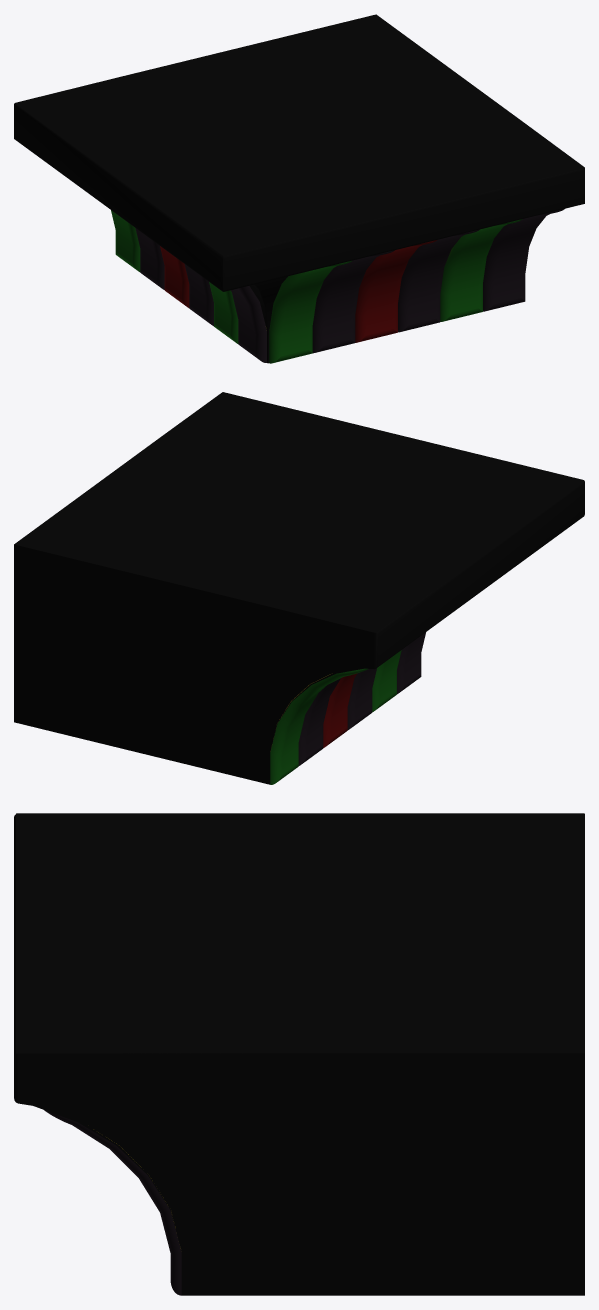
File: CornicheCorner_high.fbx
3 renders of one model, top to bottom at view 1: azimuth 30°, elevation 25°; view 2: azimuth 150°, elevation 25°; view 3: azimuth 270°, elevation 25°, orthographic. The views are drawn at different scales.
Visible parts, largest first — view 1: CornicheCorner_high; view 2: CornicheCorner_high; view 3: CornicheCorner_high.
Boxes of the visible parts, bbox=[...] form: CornicheCorner_high: bbox=[14, 14, 584, 363]; CornicheCorner_high: bbox=[14, 392, 584, 784]; CornicheCorner_high: bbox=[14, 813, 584, 1295].
Bounding box in the file's own units: 2.14 × 1 × 2.14.
